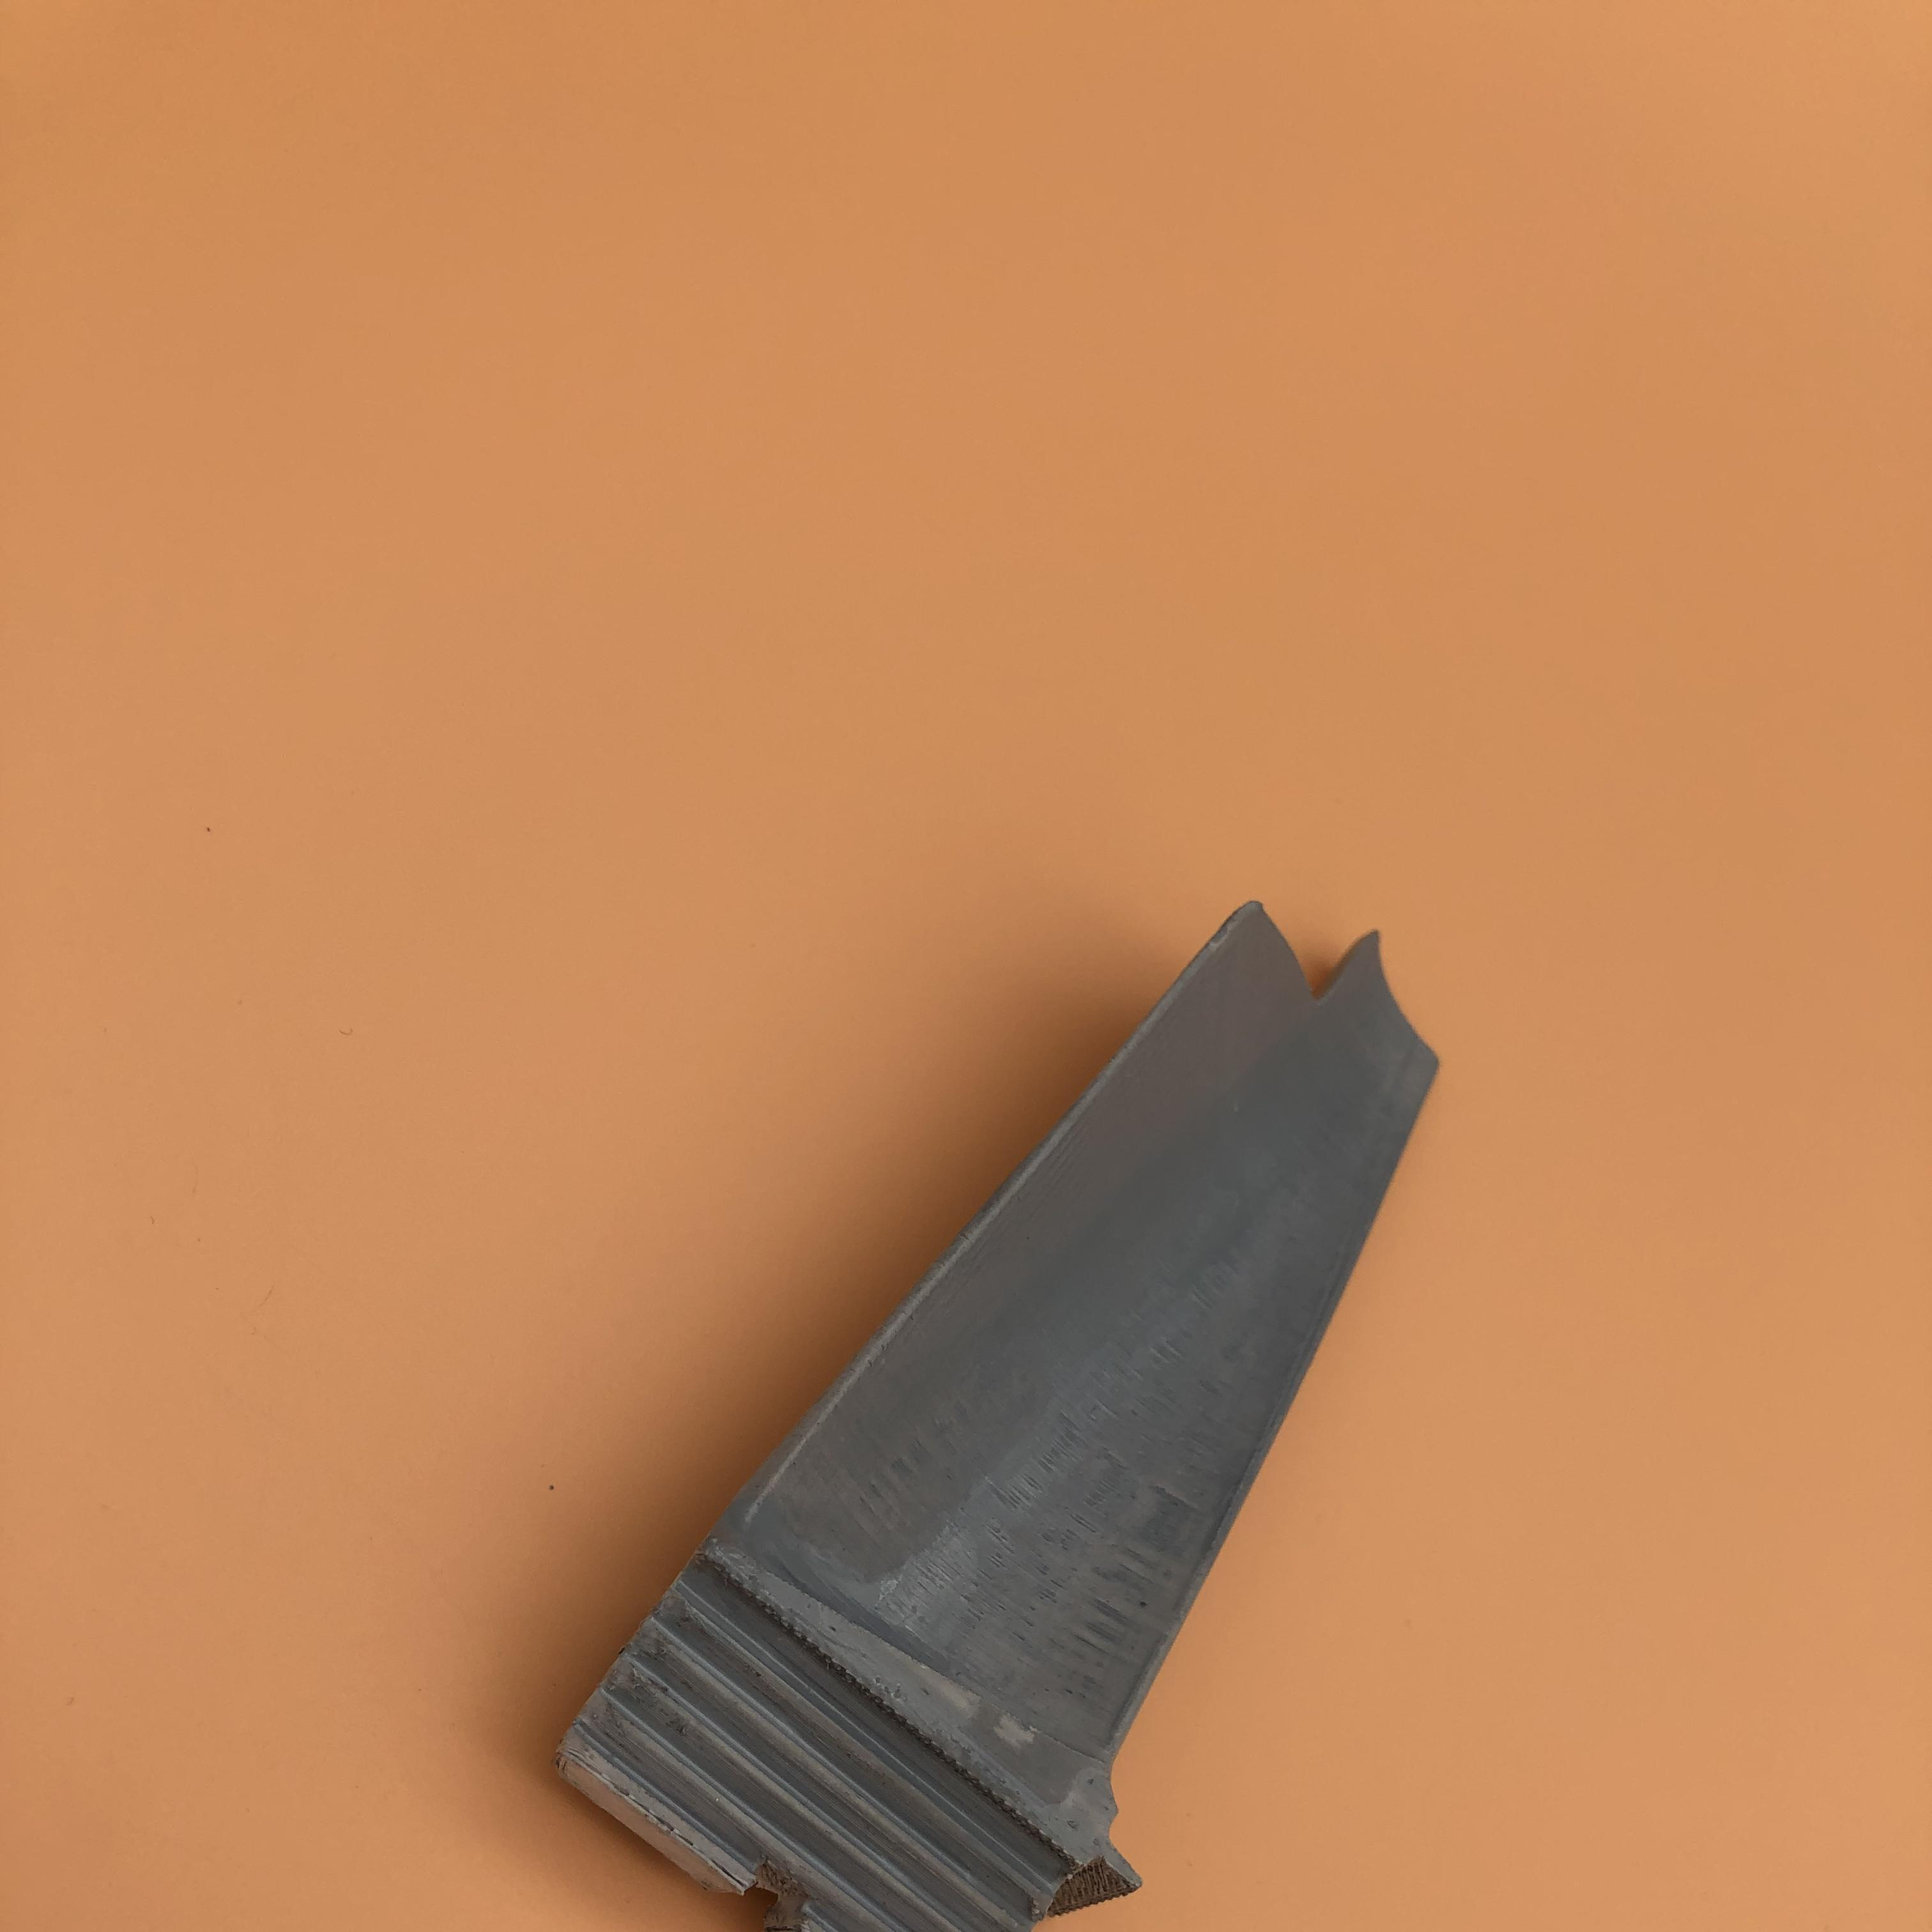fracture: (1244, 904, 1384, 1016)
